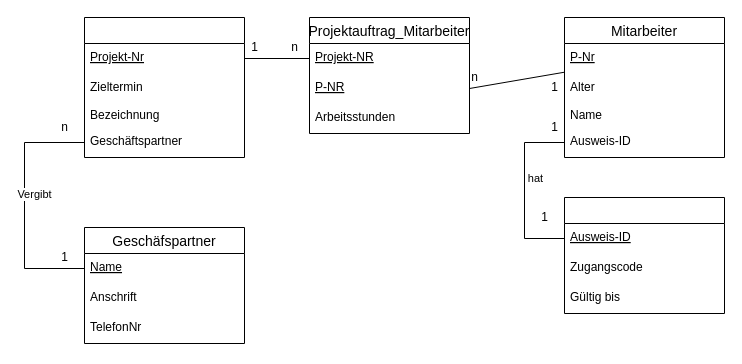
Image size: 742x364. Some labels were removed from this diagram. Here are the shapes that lost their labels. From the top down, the box of each, then its label:
(84, 16, 244, 158): Projektauftrag
(564, 196, 724, 314): Firmenausweis
